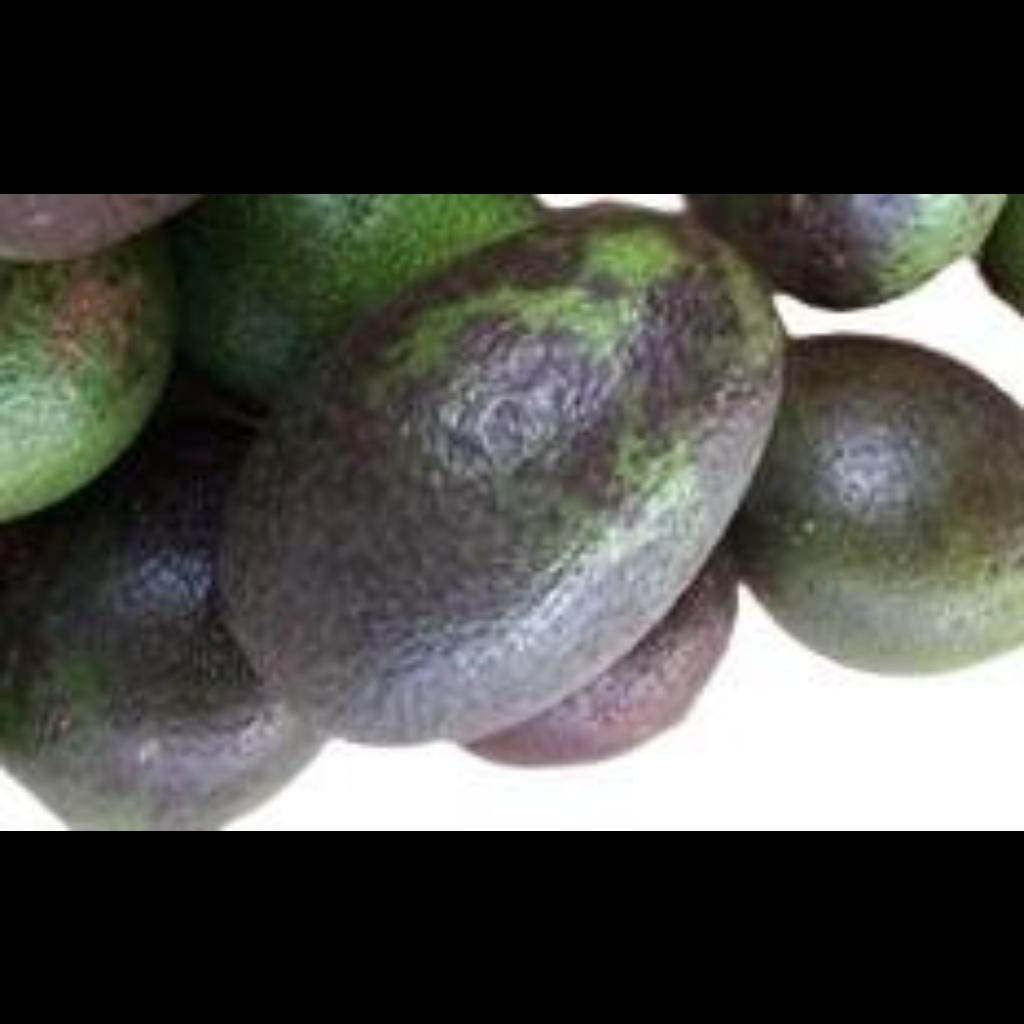antracnosis_fruto: (259, 218, 769, 675)
